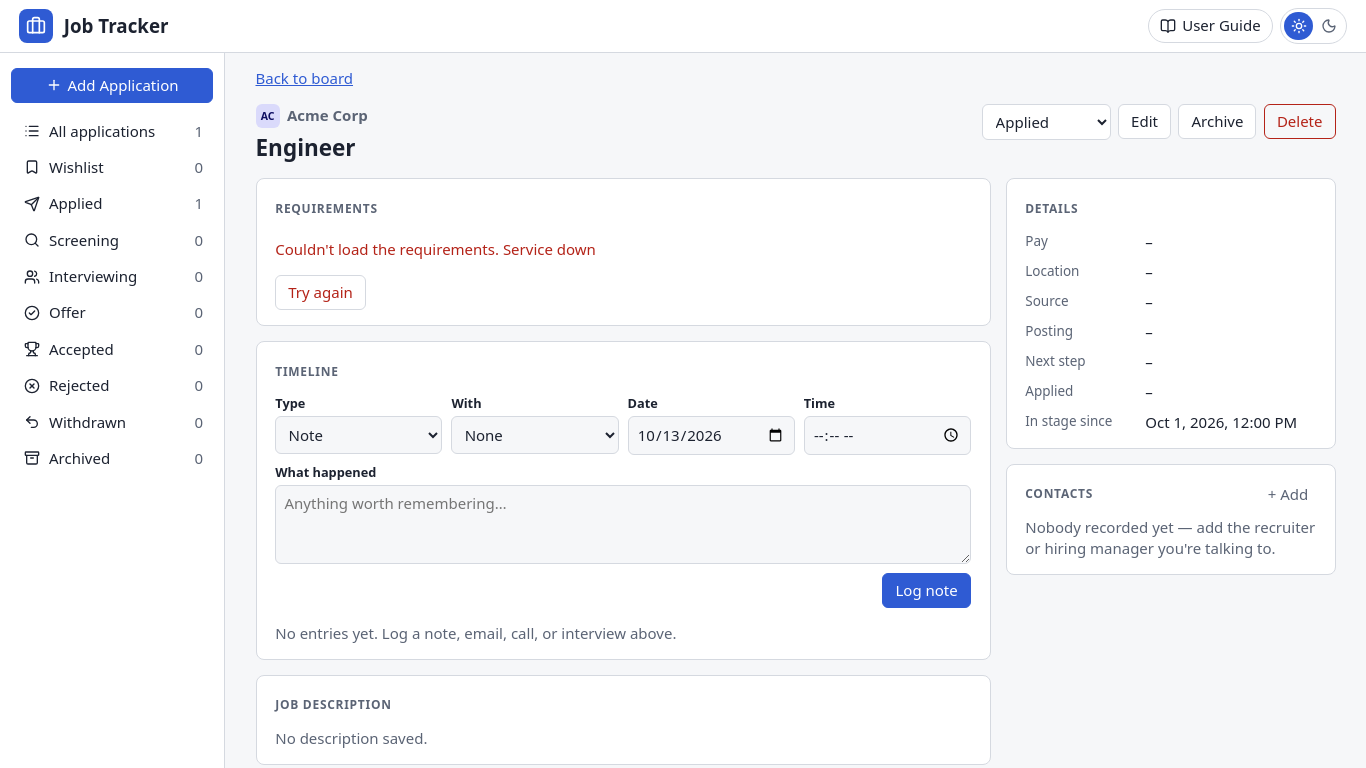
Test: the Requirements section › shows an error with a way to try again when loading fails (AC-13)
Expected: the message shows "Couldn't load the requirements", 275,239 -> 503,259
Click the button "Try again": point(321, 292) 275,275 -> 366,310
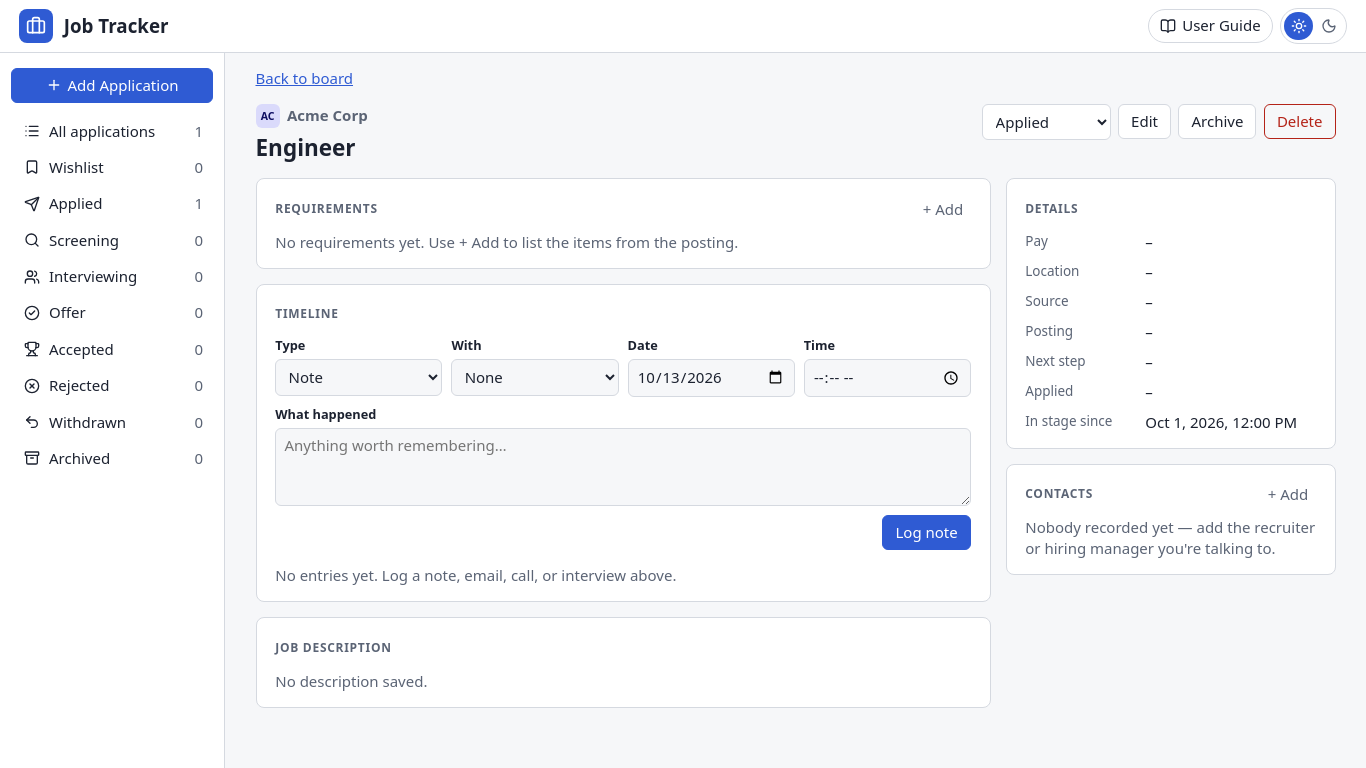
Expected: the button with aria-label "Add requirement" is shown, 915,195 -> 971,223
